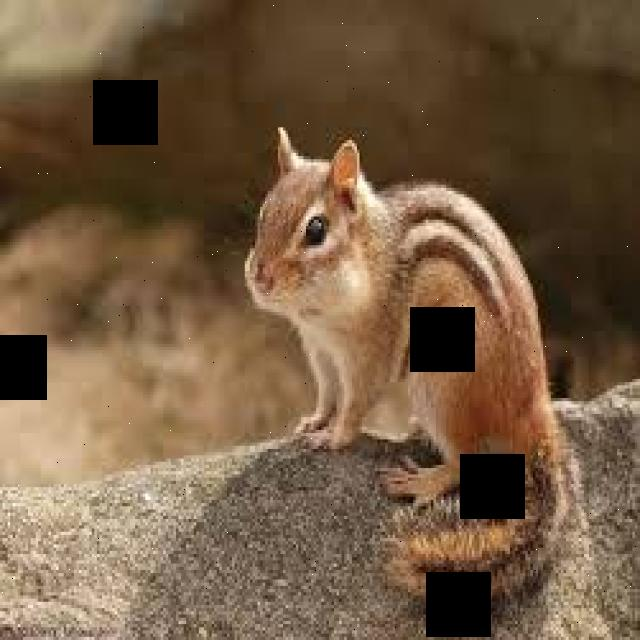squirrel: (242, 121, 561, 519)
